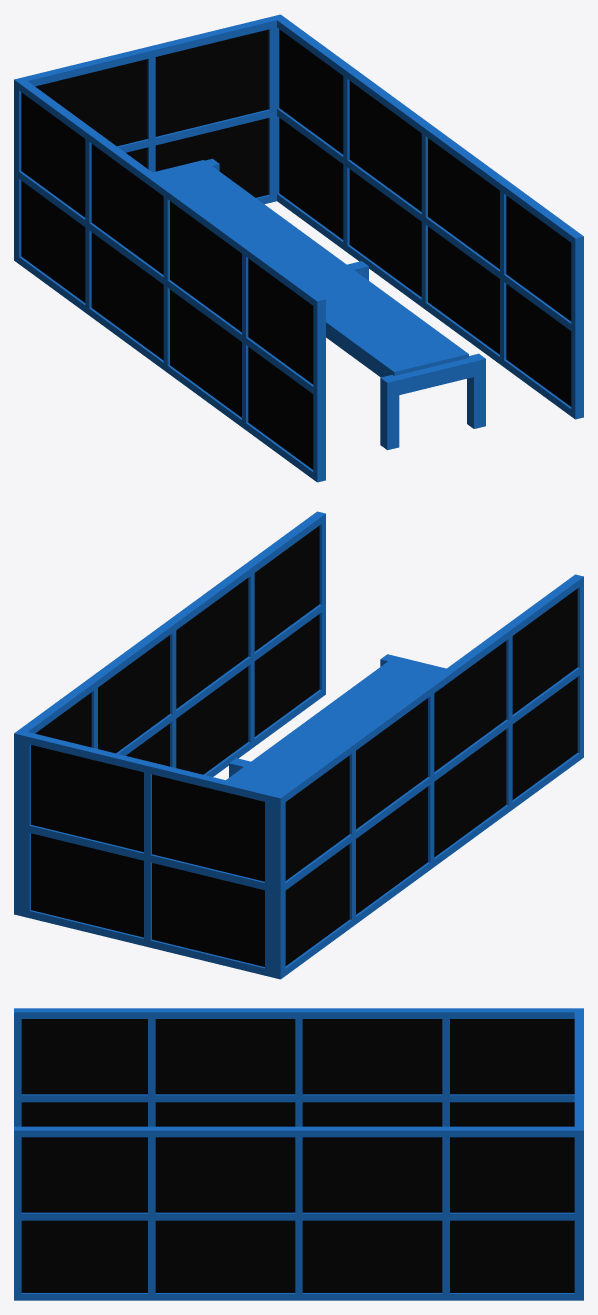
File: SM_drying_stand.fbx
3 renders of one model, top to bottom at view 1: azimuth 30°, elevation 25°; view 2: azimuth 150°, elevation 25°; view 3: azimuth 270°, elevation 25°, orthographic. The views are drawn at different scales.
Parts seen in each view (by area): view 1: drying_stand; view 2: drying_stand; view 3: drying_stand.
Boxes of the visible parts, <box> form: drying_stand: <box>14,14,583,482</box>; drying_stand: <box>14,511,583,979</box>; drying_stand: <box>14,1008,583,1300</box>.
Size of the model in its own units: 308 by 200 by 607.
